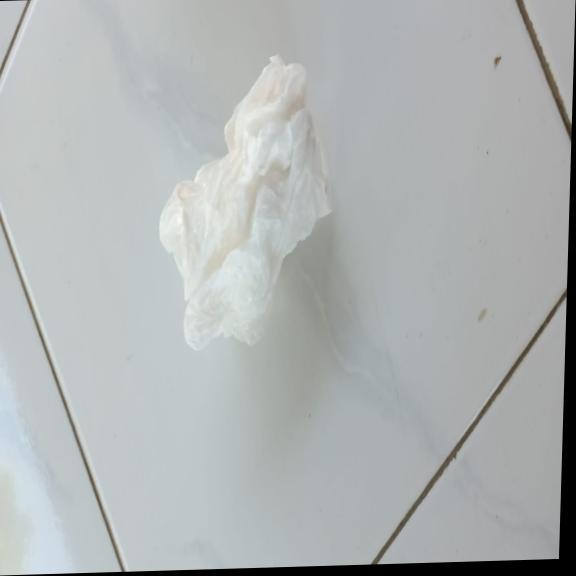Plastik: (153, 52, 340, 352)
